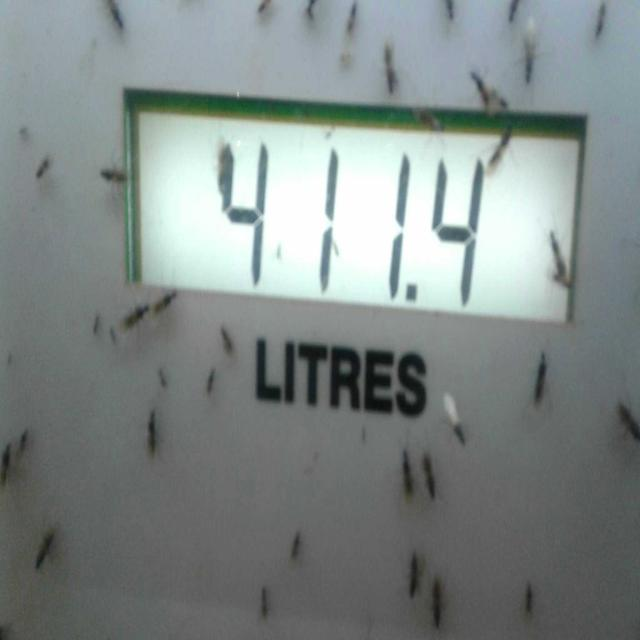.: (402, 264, 423, 312)
1: (365, 141, 409, 303), (308, 133, 350, 298)
4: (208, 137, 278, 289), (430, 148, 484, 312)
